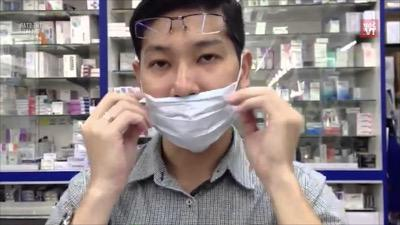mask_weared_incorrect: (137, 37, 240, 154)
